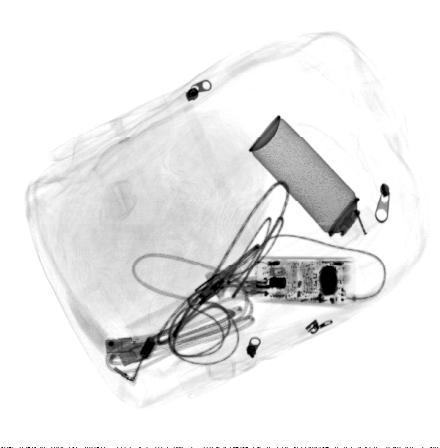Sprayer: (248, 113, 384, 264)
